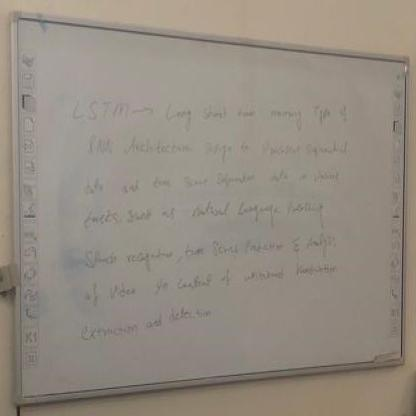Handwritten text: (76, 247, 347, 317), (78, 220, 341, 276), (65, 88, 360, 137), (71, 293, 224, 361), (73, 194, 333, 234), (81, 167, 347, 204), (81, 132, 354, 167)
Whiteboard: (9, 10, 409, 407)
